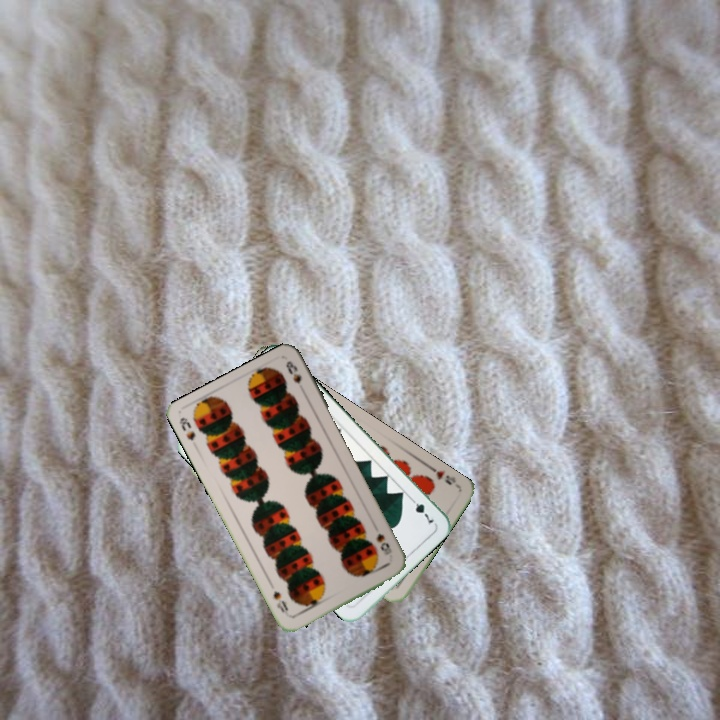G7: (405, 493, 437, 527)
H9: (425, 462, 461, 490)
S8: (175, 413, 198, 444), (372, 529, 395, 558)
